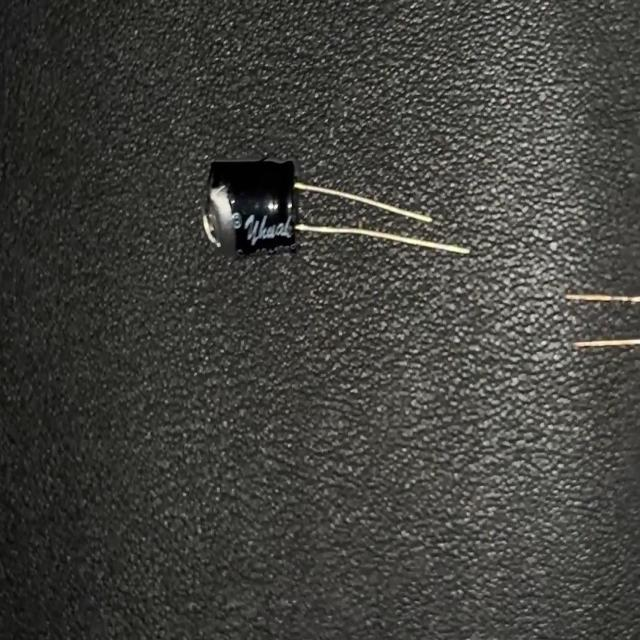capacitor: (198, 153, 472, 269)
cracked: (201, 178, 238, 265)
